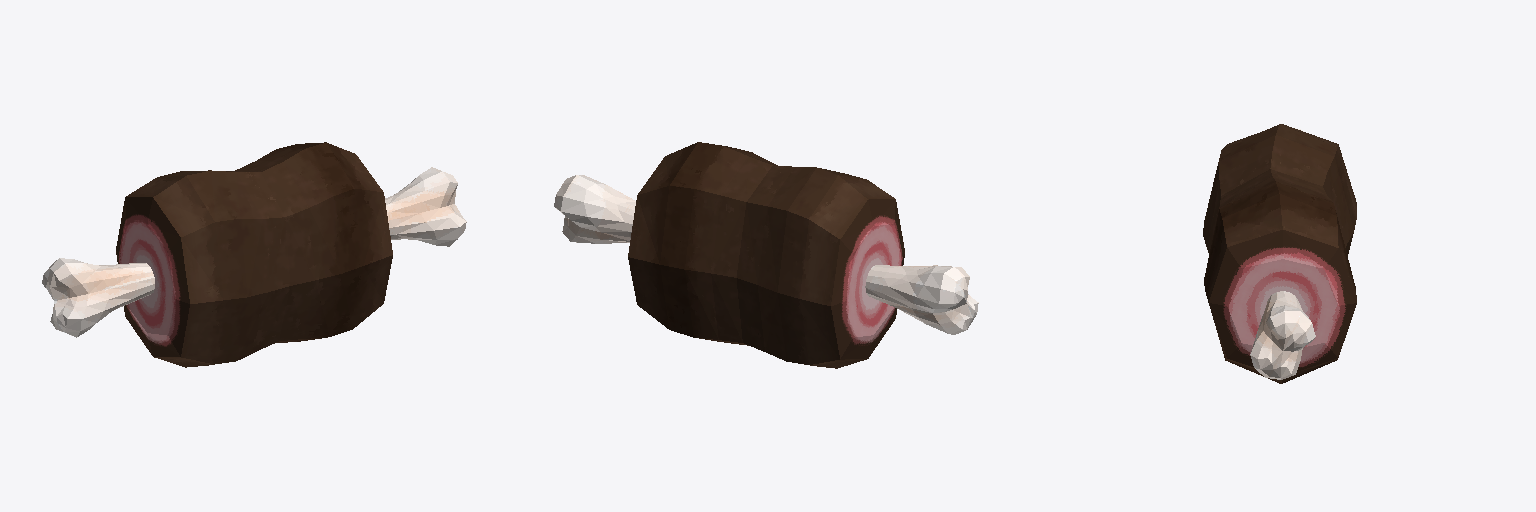
3 renders of one model, left to right at view 1: azimuth 30°, elevation 25°; view 2: azimuth 150°, elevation 25°; view 3: azimuth 270°, elevation 25°, orthographic.
Parts seen in each view (by area): view 1: Meat; view 2: Meat; view 3: Meat.
Boxes of the visible parts, x1,y1,x2,y2 form: Meat: [42, 142, 466, 367]; Meat: [554, 142, 978, 368]; Meat: [1203, 124, 1356, 383].
Bounding box in the file's own units: 2.76 × 1.28 × 0.909.
2 materials, 1 textured.